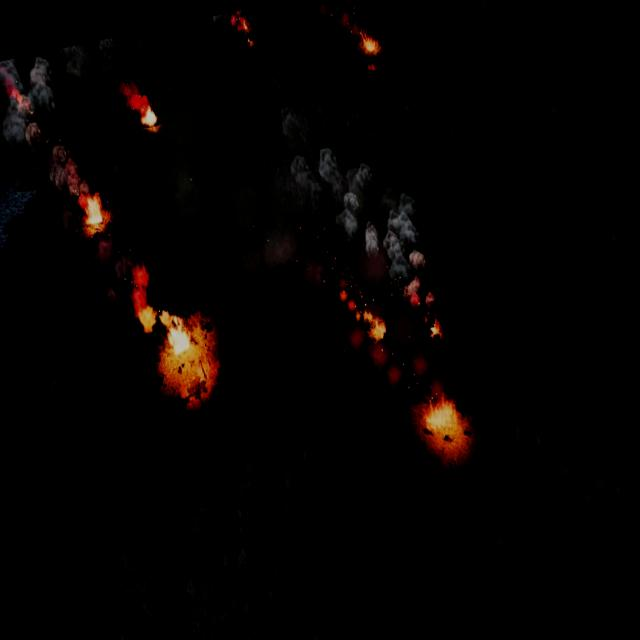fire: (142, 300, 226, 408), (337, 283, 388, 347), (418, 391, 468, 450), (124, 262, 160, 333), (122, 77, 163, 136), (76, 190, 110, 236), (358, 32, 385, 61), (228, 8, 251, 38), (424, 315, 448, 342)
smoke: (214, 88, 456, 416), (0, 48, 90, 206), (151, 100, 216, 228), (331, 0, 366, 38)
